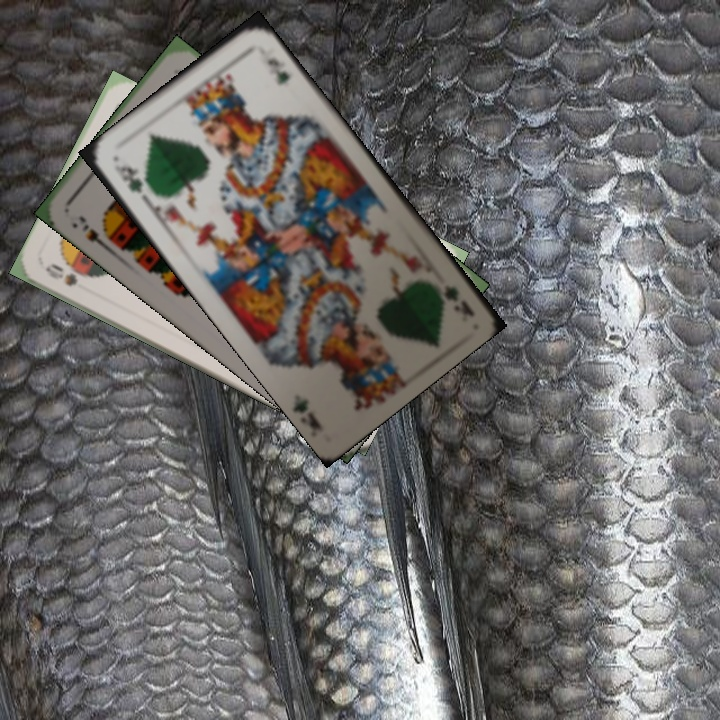GK: (110, 160, 152, 204), (440, 280, 477, 319)
S9: (74, 211, 117, 254)
SO: (41, 259, 80, 289)
